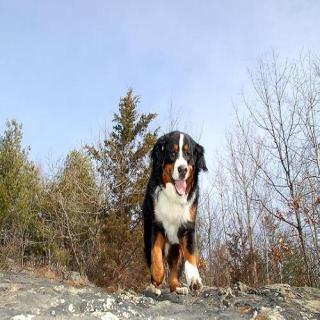dog: (149, 128, 209, 202)
nose: (177, 161, 190, 179)
